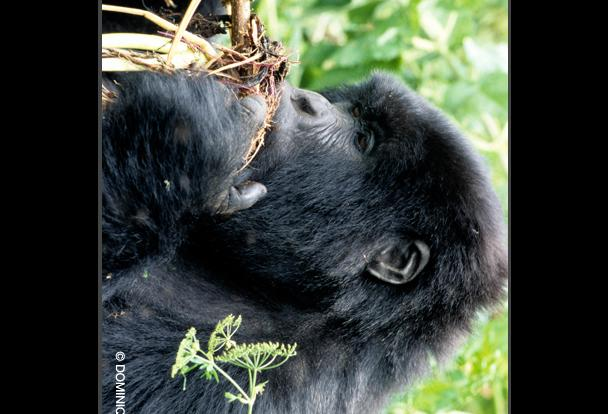goriile_montagne: (147, 26, 509, 414)
